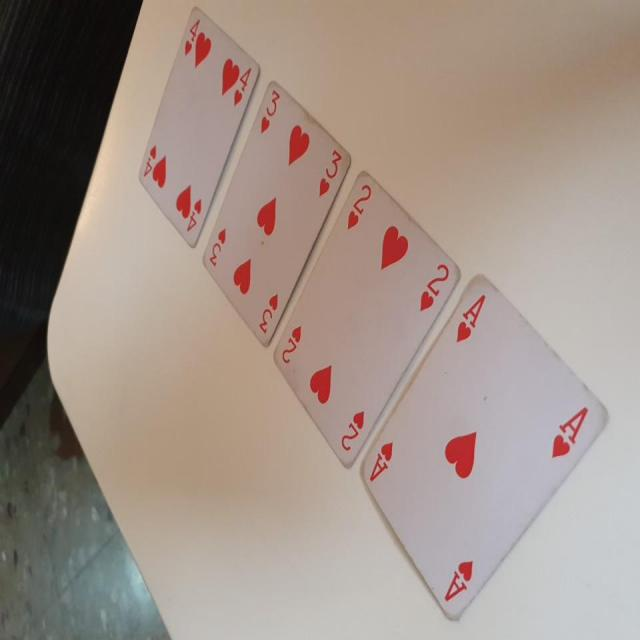2 Hearts: (269, 161, 464, 474)
3 Hearts: (198, 77, 364, 362)
4 Hearts: (130, 2, 273, 252)
A Hearts: (362, 272, 605, 636)
